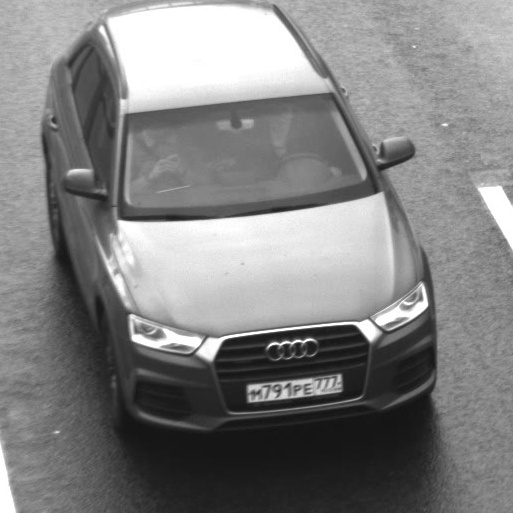plate: (234, 363, 354, 411)
